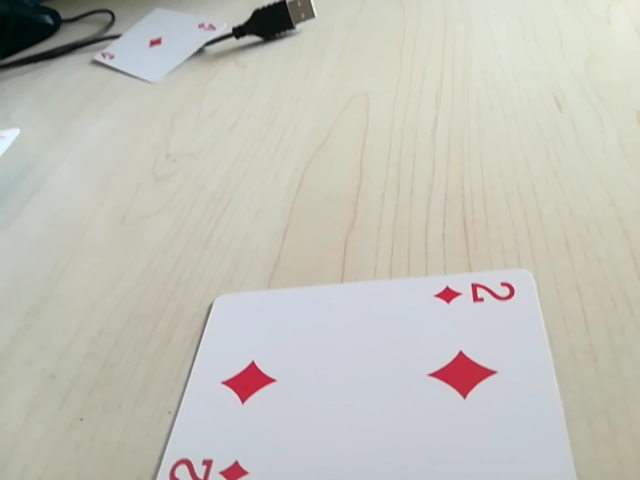fk 2: (433, 276, 524, 313), (166, 449, 257, 478)
